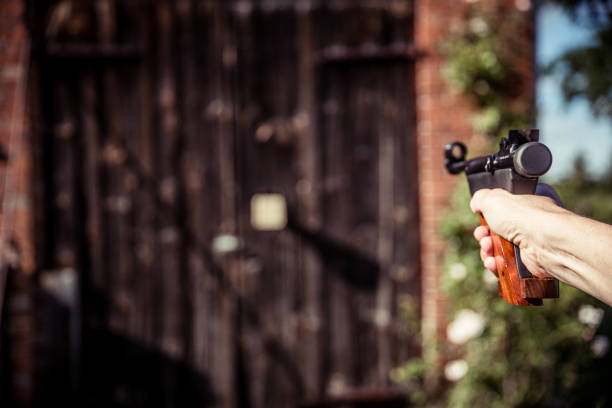gun: (440, 127, 560, 310)
